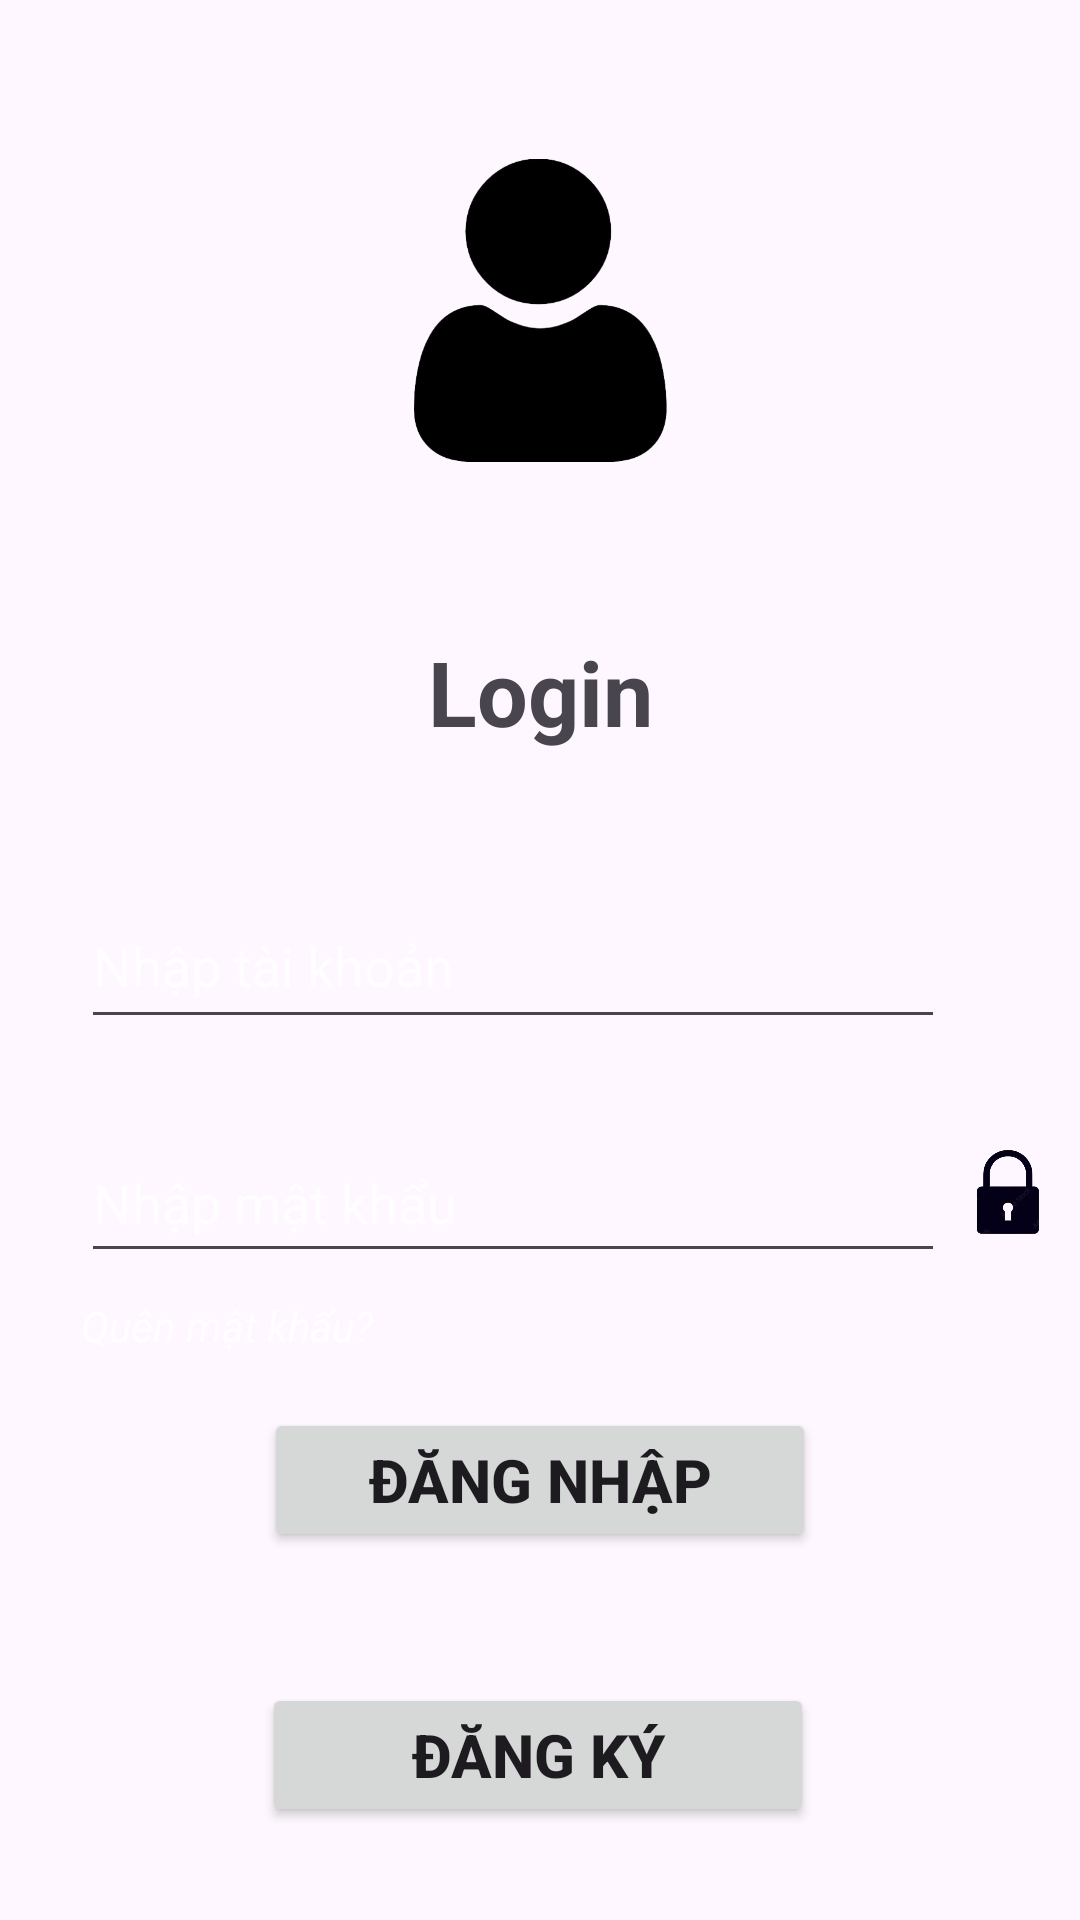

Icon bounding boxes for this 1080×1920 phone screenshot, format detection(x1, y1, x2, y2):
lock: detection(977, 1150, 1039, 1234)
